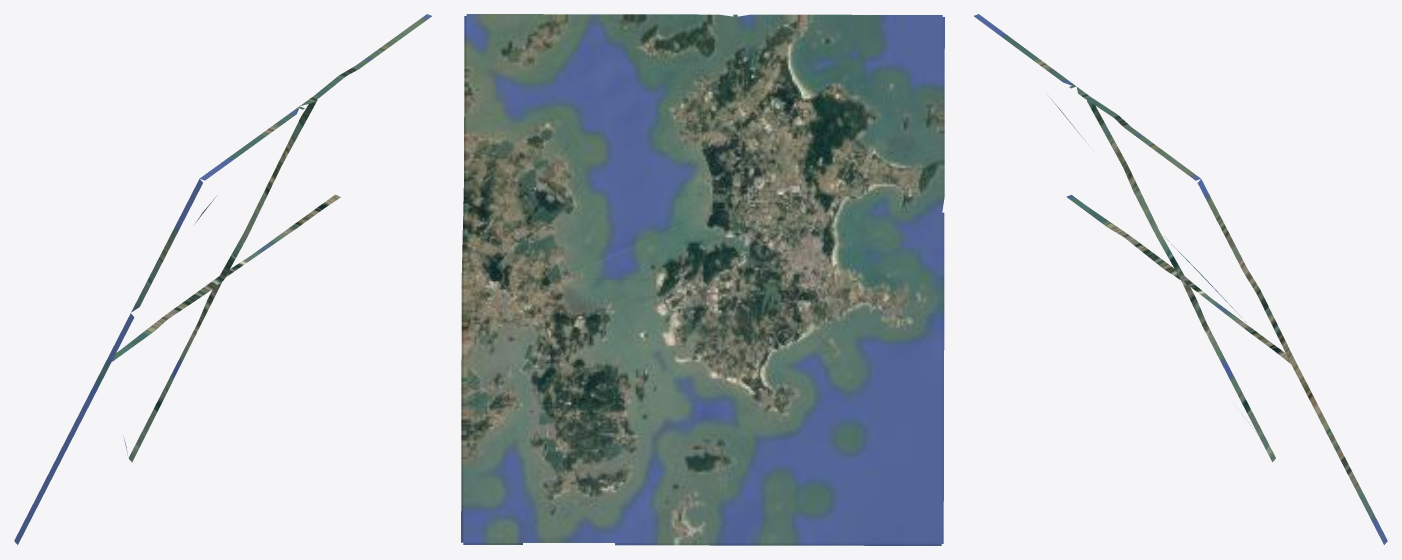
The picture shows the model from 3 angles, left to right: view 1: azimuth 30°, elevation 25°; view 2: azimuth 150°, elevation 25°; view 3: azimuth 270°, elevation 25°; orthographic projection. The views are drawn at different scales.
Size of the model in its own units: 39486 by 35792 by 32739.
Materials: 1 (1 with a texture image).
